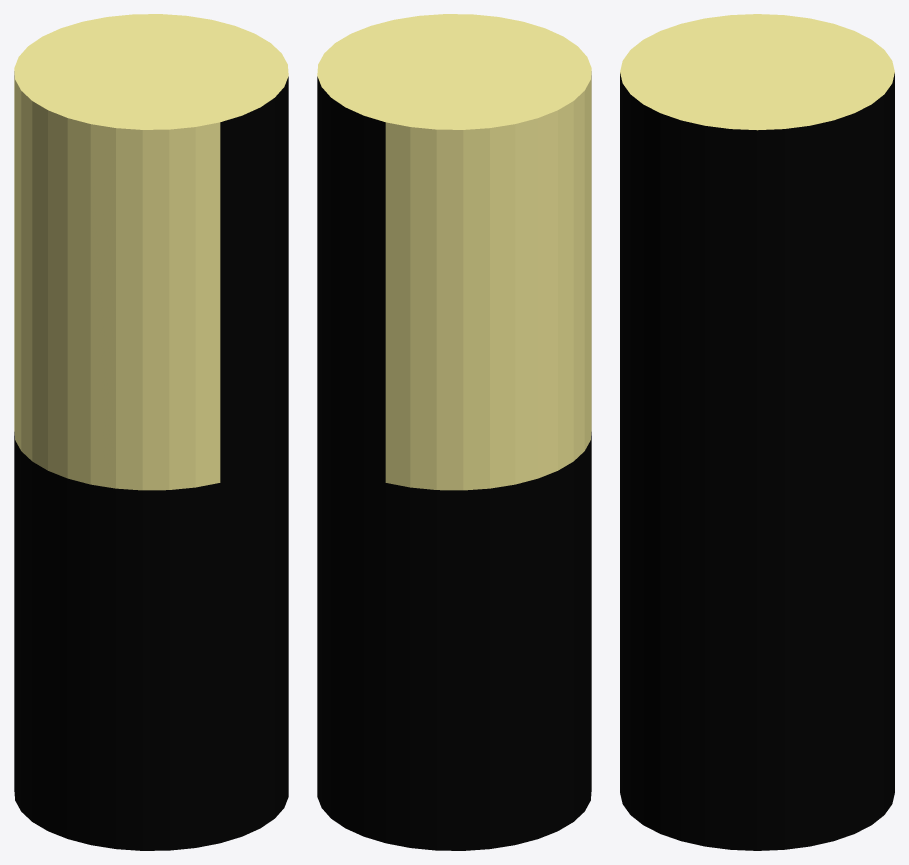
File: Wall Light Fixture.fbx
The picture shows the model from 3 angles, left to right: view 1: azimuth 30°, elevation 25°; view 2: azimuth 150°, elevation 25°; view 3: azimuth 270°, elevation 25°; orthographic projection.
Visible parts, largest first — view 1: Cylinder; view 2: Cylinder; view 3: Cylinder.
Part boxes in pixels (x1=…): Cylinder: x1=14, y1=14, x2=288, y2=850; Cylinder: x1=317, y1=14, x2=591, y2=850; Cylinder: x1=620, y1=14, x2=894, y2=850.
Size of the model in its own units: 200 by 579 by 200.
